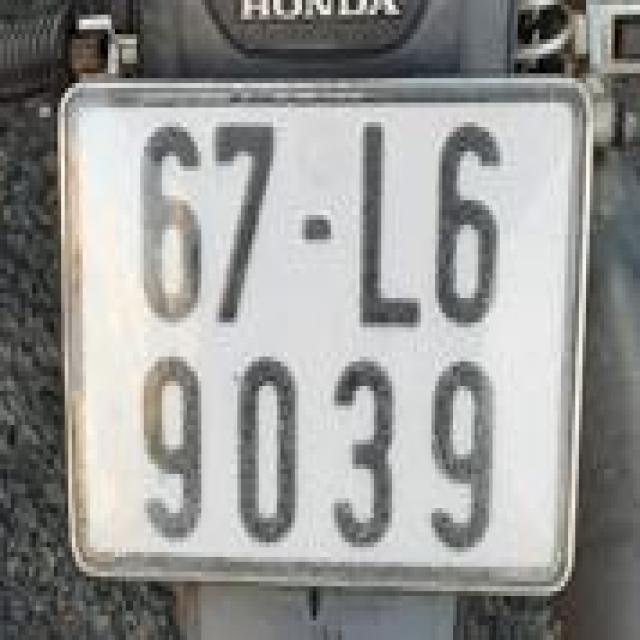0: (230, 342, 306, 552)
3: (330, 344, 402, 554)
6: (126, 110, 205, 325), (432, 112, 504, 332)
7: (214, 110, 286, 320)
9: (417, 352, 503, 557), (135, 334, 214, 554)
L: (345, 114, 421, 334)
